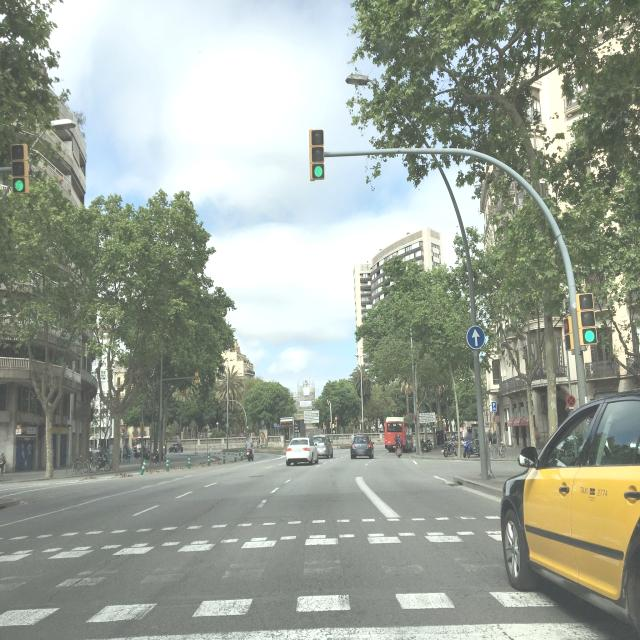bike: (95, 454, 112, 470), (441, 441, 457, 457), (246, 444, 256, 461), (395, 442, 403, 458)
car: (499, 387, 640, 640), (285, 436, 319, 466), (350, 434, 374, 459), (311, 434, 334, 458), (166, 442, 184, 453)
